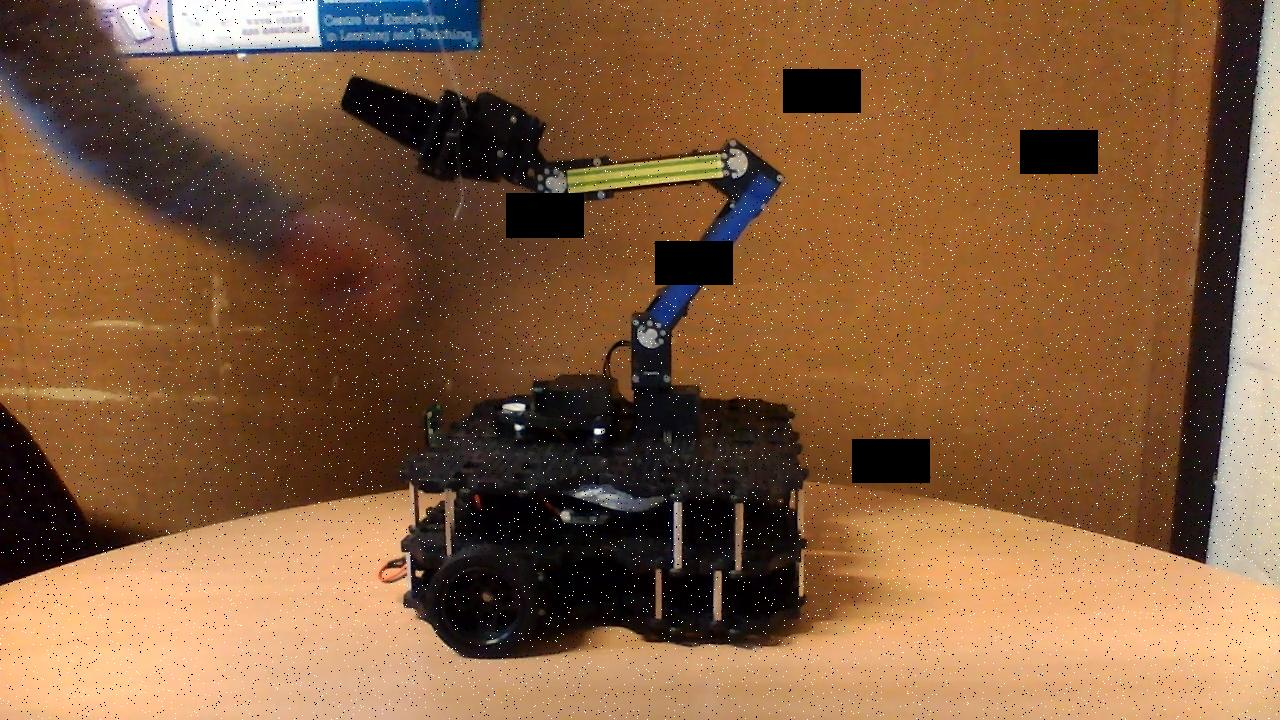Arm: (631, 164, 786, 353)
Hand: (339, 73, 569, 206)
Wrist: (534, 136, 752, 210)
base: (376, 369, 815, 664)
